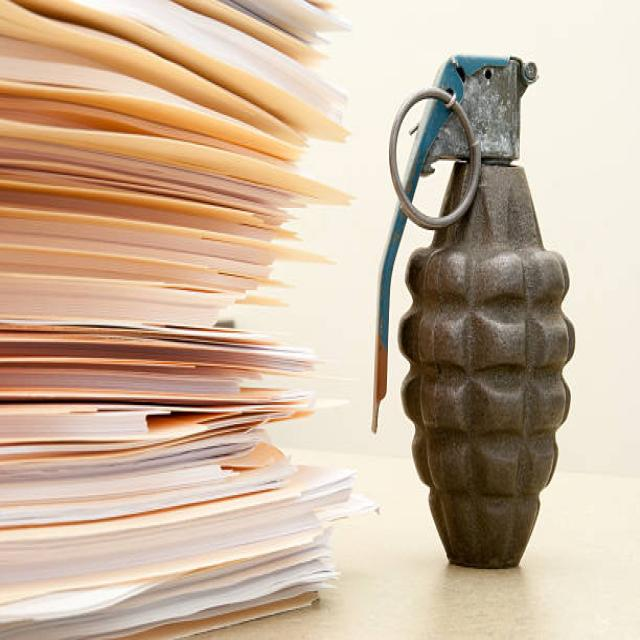grenade: (365, 47, 579, 586)
